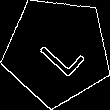L_NW: (28, 23, 86, 79)
